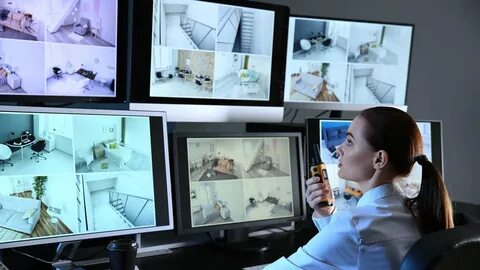awake: (294, 105, 455, 270)
